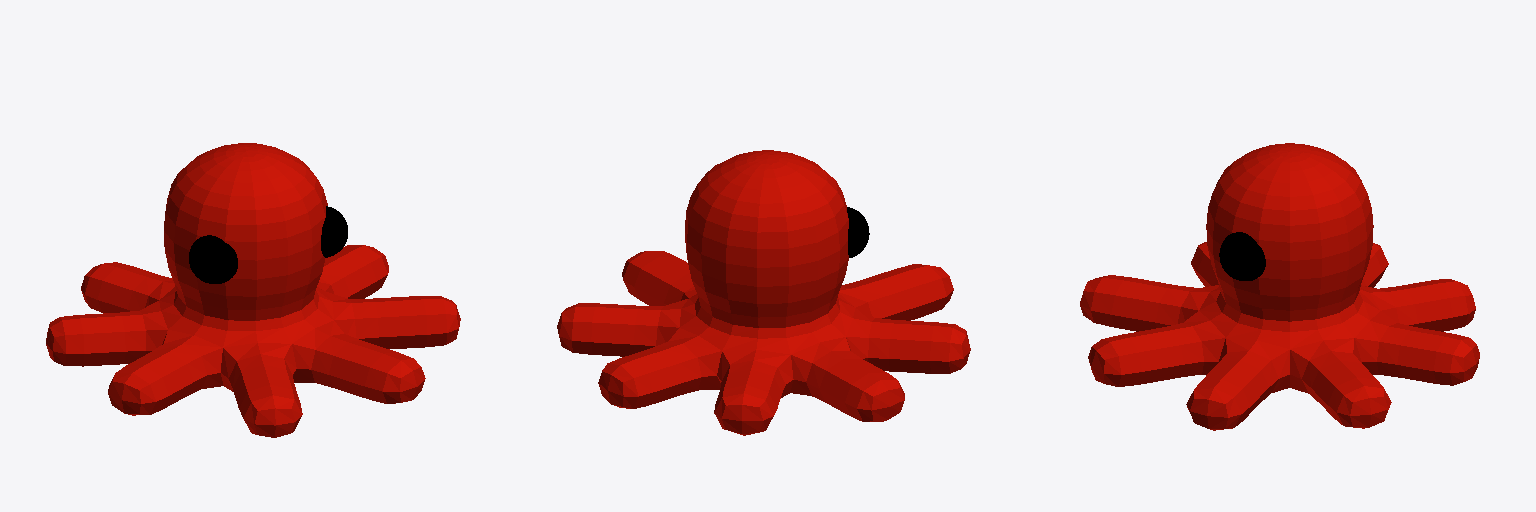
Rendered from Octopus.obj.
The picture shows the model from 3 angles: view 1: azimuth 30°, elevation 25°; view 2: azimuth 150°, elevation 25°; view 3: azimuth 270°, elevation 25°; orthographic projection.
Parts seen in each view (by area): view 1: Cylinder, Icosphere; view 2: Cylinder, Icosphere; view 3: Cylinder, Icosphere.
Boxes of the visible parts, x1,y1,x2,y2 form: Cylinder: [46, 143, 460, 437]; Icosphere: [189, 206, 347, 283]; Cylinder: [557, 150, 970, 435]; Icosphere: [847, 207, 869, 257]; Cylinder: [1080, 143, 1479, 430]; Icosphere: [1219, 232, 1265, 280].
Bounding box in the file's own units: 4.43 × 2.52 × 4.48.